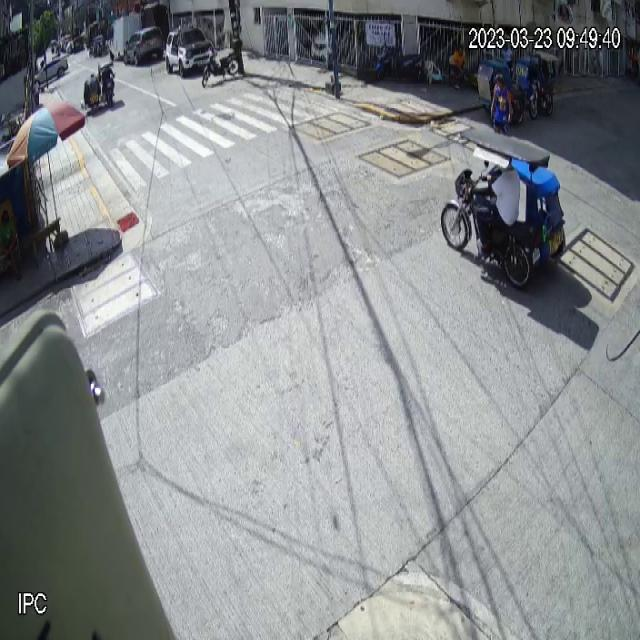Tricycle: (440, 128, 566, 291)
